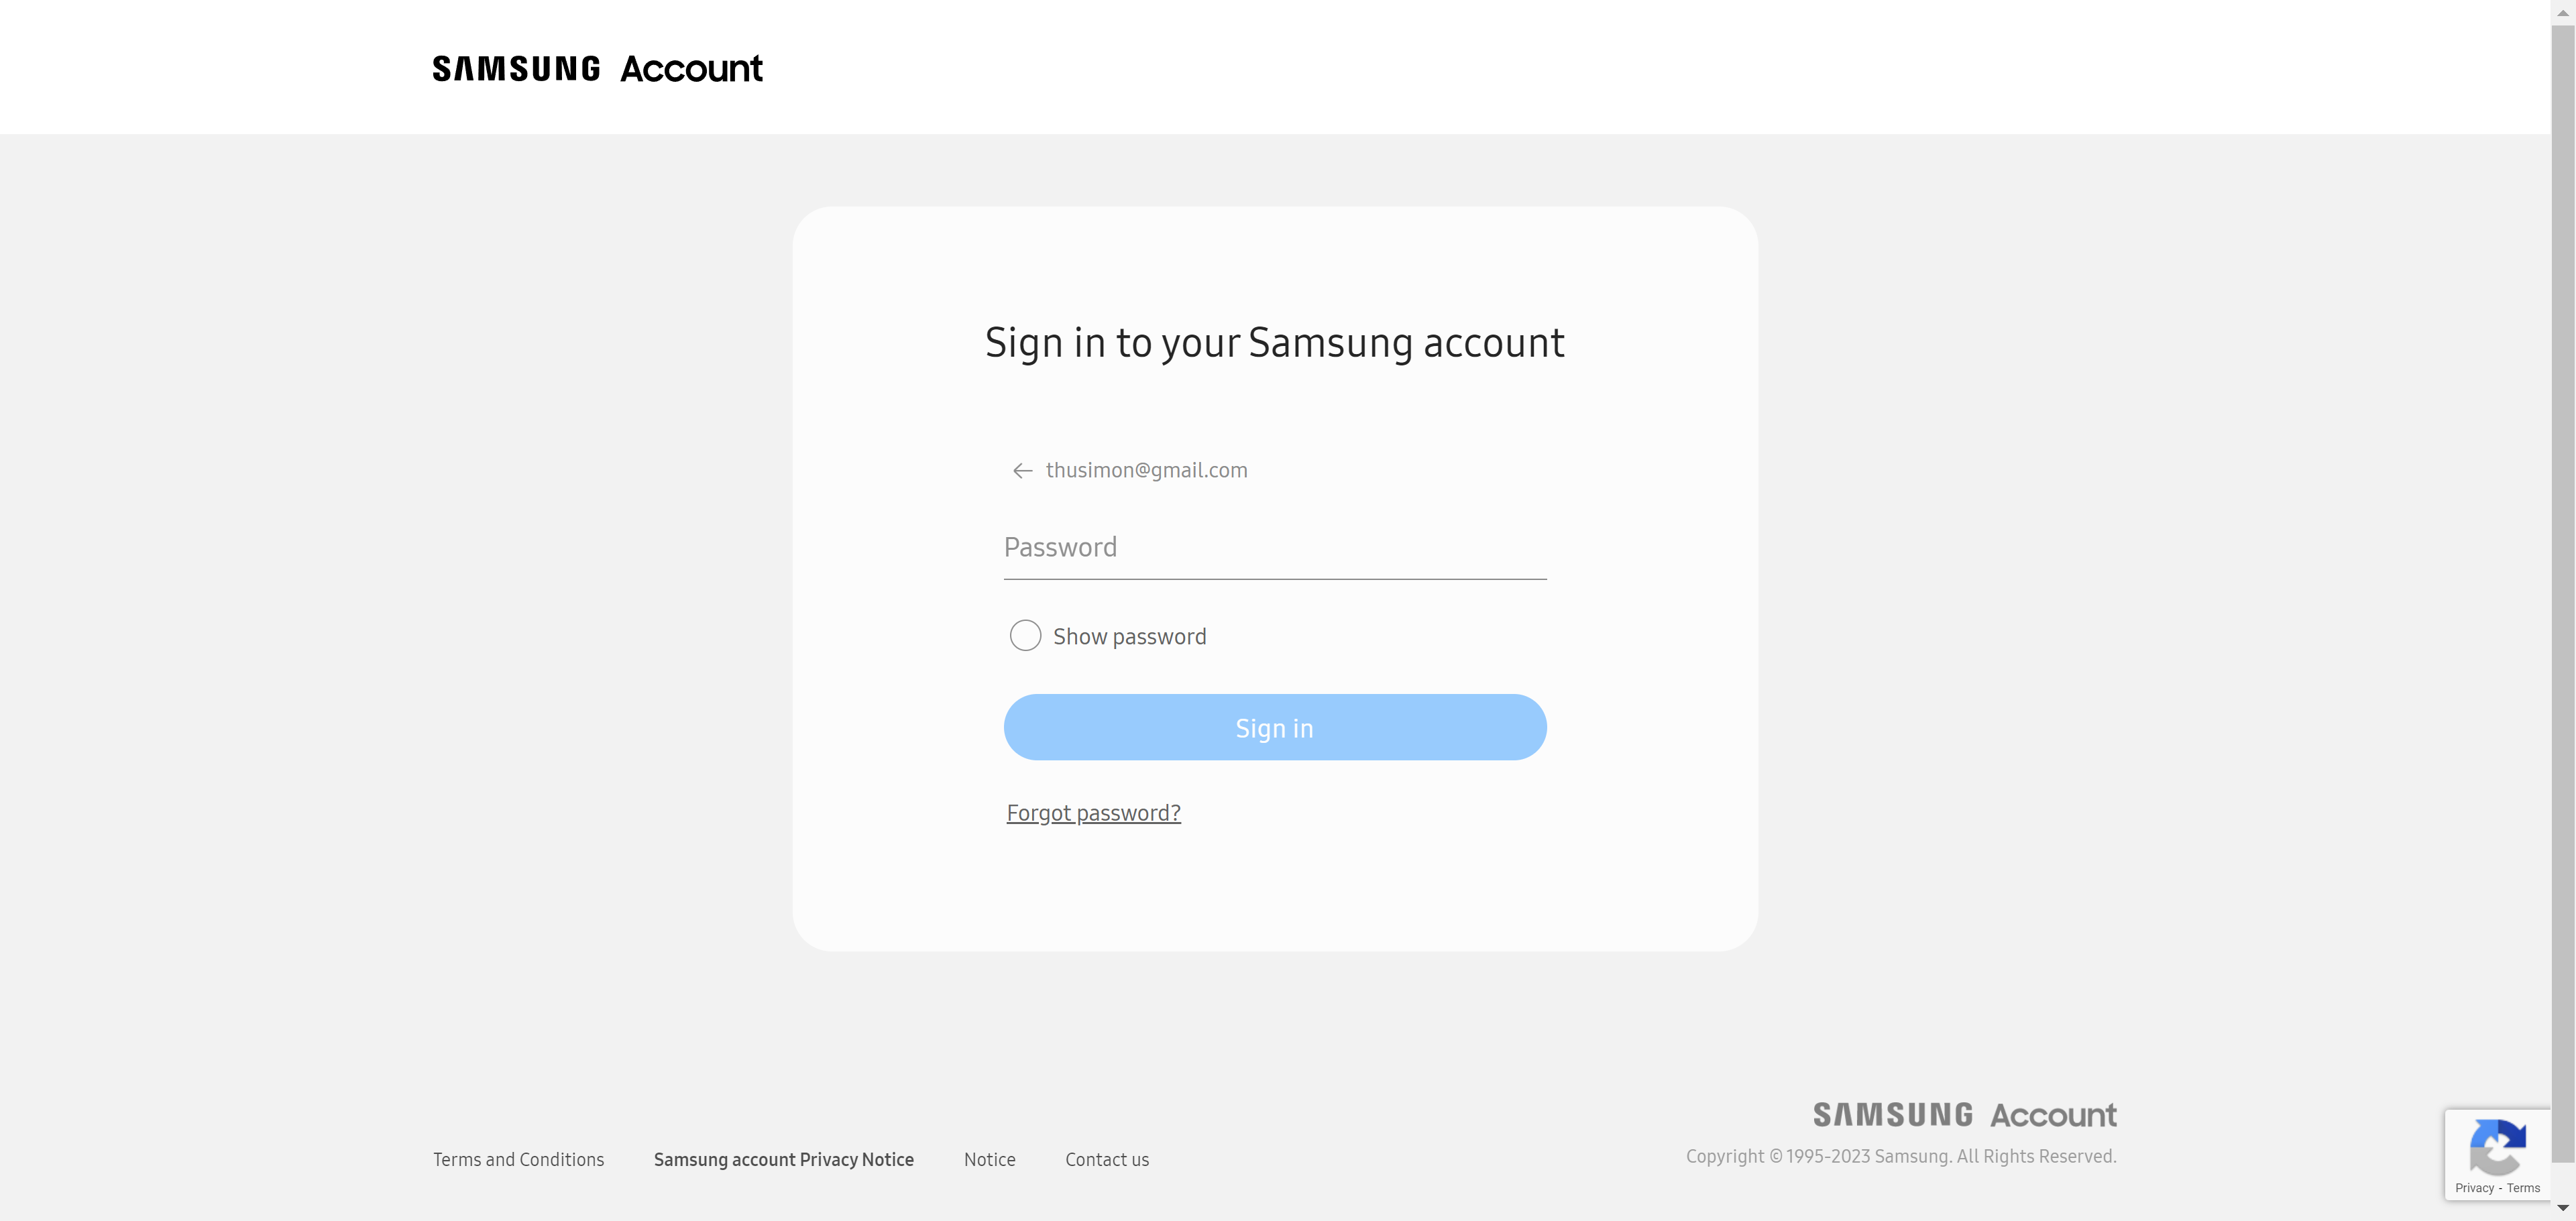login_button: (1002, 693, 1548, 763)
login_form: (987, 511, 1564, 772)
